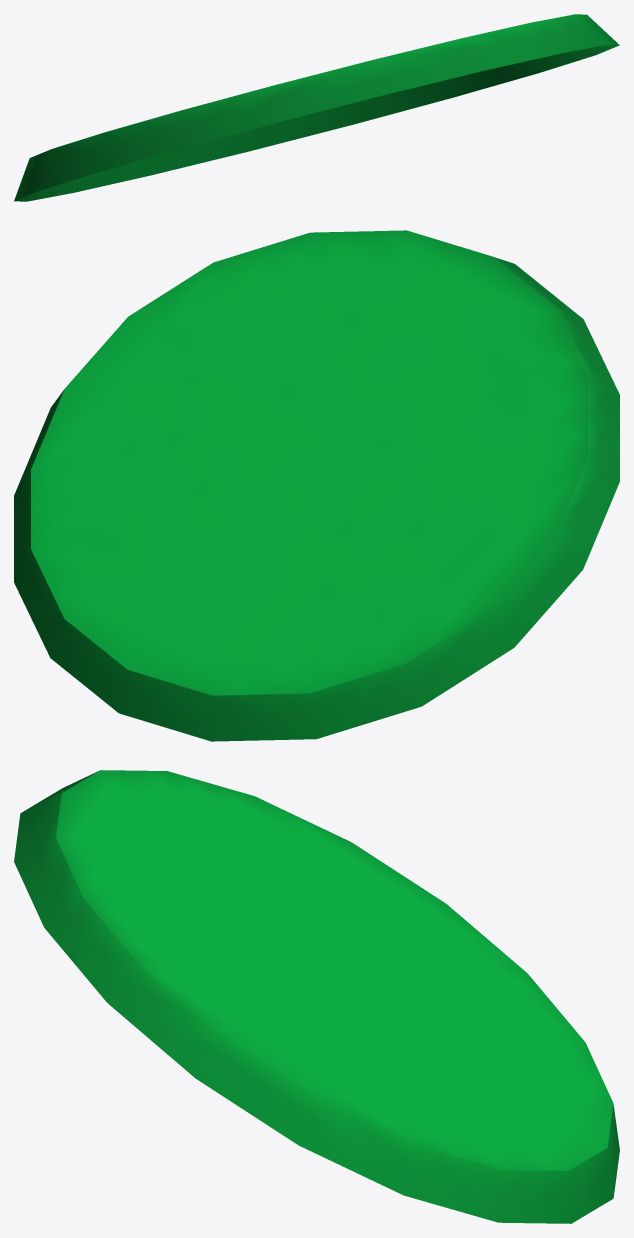
File: led_left.obj
The picture shows the model from 3 angles, top to bottom: view 1: azimuth 30°, elevation 25°; view 2: azimuth 150°, elevation 25°; view 3: azimuth 270°, elevation 25°; orthographic projection. The views are drawn at different scales.
Visible parts, largest first — view 1: l_led; view 2: l_led; view 3: l_led.
Boxes of the visible parts, x1,y1,x2,y2 form: l_led: (14,14,619,201); l_led: (14,230,619,741); l_led: (14,770,619,1223).
Size of the model in its own units: 0.00184 by 0.000996 by 0.00159.
1 material, 1 textured.
